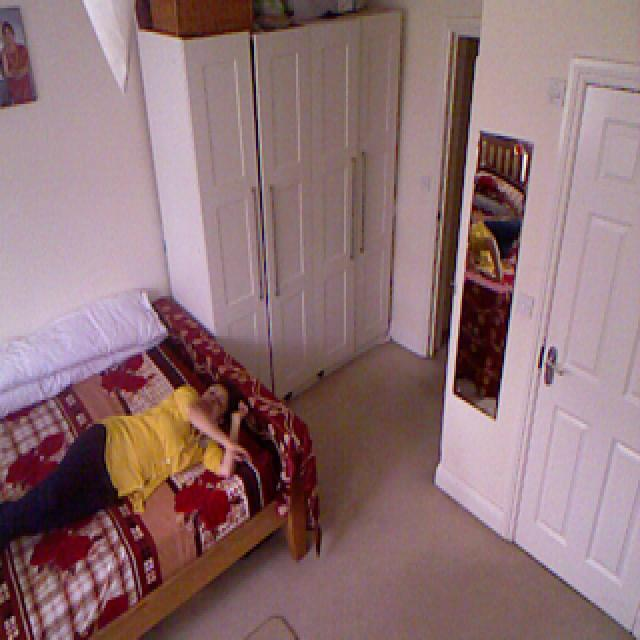lying: (0, 375, 254, 562)
